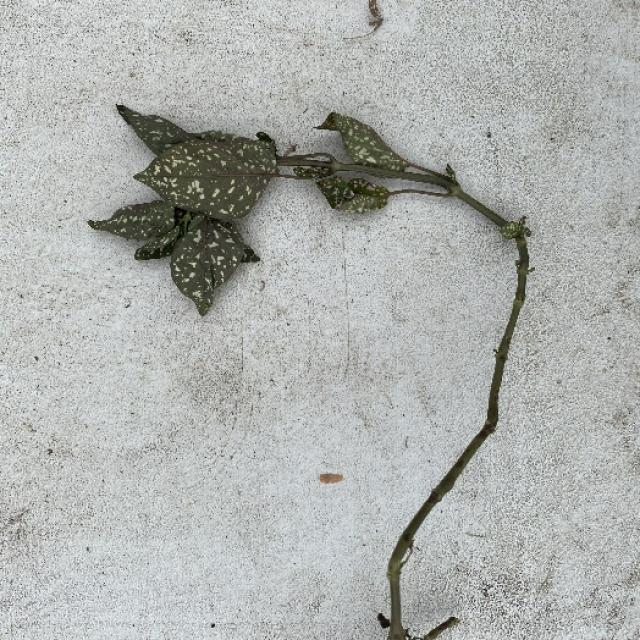organik: (115, 104, 536, 640)
